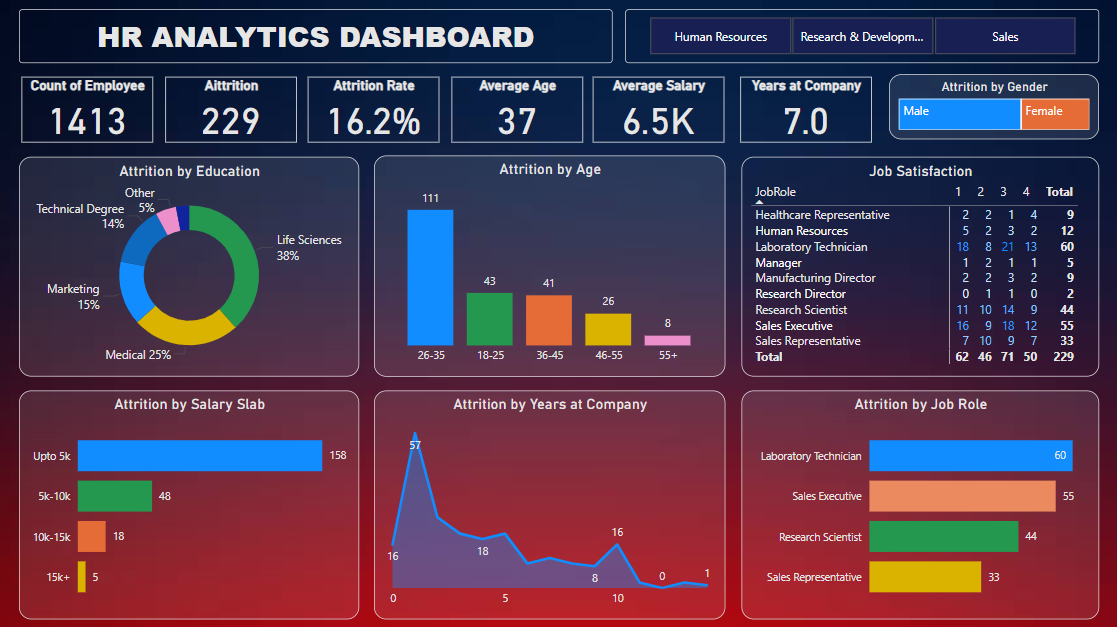

Layout of this report page (visuals, bound fields, positions):
{"tool":"powerbi","page":{"name":"Page 1","canvas":[1280,720],"ordinal":0},"visuals":[{"type":"card","title":"Count of Employee","fields":{"Values":["CountNonNull(HR_Analytics.EmpID)"]},"box":[25.2,89.4,150,75],"z":0},{"type":"card","title":"Aittrition","fields":{"Values":["Sum(HR_Analytics.AittritionCount)"]},"box":[189.6,89.4,150,75],"z":1000},{"type":"card","title":"Average Age","fields":{"Values":["Avg(HR_Analytics.Age)"]},"box":[517.5,89.4,150,75],"z":2000},{"type":"card","title":"Attrition Rate","fields":{"Values":["HR_Analytics.AttritionRate"]},"box":[353.1,89.4,150,75],"z":3000},{"type":"card","title":"Average Salary","fields":{"Values":["Avg(HR_Analytics.MonthlyIncome)"]},"box":[679.1,89.4,150,75],"z":4000},{"type":"card","title":"Years at Company","fields":{"Values":["Avg(HR_Analytics.YearsAtCompany)"]},"box":[847.4,89.4,150,75],"z":5000},{"type":"donutChart","title":"Attrition by Education","fields":{"Category":["HR_Analytics.EducationField"],"Y":["Sum(HR_Analytics.AittritionCount)"]},"box":[22.3,181.4,388.6,251.4],"z":6000},{"type":"columnChart","title":"Attrition by Age","fields":{"Category":["HR_Analytics.AgeGroup"],"Y":["Sum(HR_Analytics.AittritionCount)"]},"box":[428,180,401.4,252.9],"z":7000},{"type":"pivotTable","title":"Job Satisfaction","fields":{"Rows":["HR_Analytics.JobRole"],"Columns":["HR_Analytics.JobSatisfaction"],"Values":["Sum(HR_Analytics.AittritionCount)"]},"box":[848,181.4,408.6,251.4],"z":8000},{"type":"barChart","title":"Attrition by Salary Slab","fields":{"Category":["HR_Analytics.SalarySlab"],"Y":["Sum(HR_Analytics.AittritionCount)"]},"box":[22.3,448.6,388.6,261.4],"z":9000},{"type":"barChart","title":"Attrition by Job Role","fields":{"Y":["Sum(HR_Analytics.AittritionCount)"],"Category":["HR_Analytics.JobRole"]},"box":[848,448.6,408.6,261.4],"z":10000},{"type":"areaChart","title":"Attrition by Years at Company","fields":{"Category":["HR_Analytics.YearsAtCompany"],"Y":["Sum(HR_Analytics.AittritionCount)"]},"box":[428,448.6,401.4,261.4],"z":11000},{"type":"treemap","title":"Attrition by Gender","fields":{"Group":["HR_Analytics.Gender"],"Values":["Sum(HR_Analytics.AittritionCount)"]},"box":[1017.1,86.9,240,74.3],"z":12000},{"type":"slicer","fields":{"Values":["HR_Analytics.Department"]},"box":[715.7,13.1,541.4,61.4],"z":13000},{"type":"textbox","box":[22.9,12.9,678.6,61.4],"z":14000}]}

Visuals, with their boxes in screenshot pixels (x1, y1, x2, y2), scaled from the page's 1280x720 canvas onto the 1117x627 screenshot:
"Count of Employee" card: bbox=[22, 78, 153, 143]
"Aittrition" card: bbox=[165, 78, 296, 143]
"Average Age" card: bbox=[452, 78, 582, 143]
"Attrition Rate" card: bbox=[308, 78, 439, 143]
"Average Salary" card: bbox=[593, 78, 724, 143]
"Years at Company" card: bbox=[739, 78, 870, 143]
"Attrition by Education" donutChart: bbox=[19, 158, 359, 377]
"Attrition by Age" columnChart: bbox=[373, 157, 724, 377]
"Job Satisfaction" pivotTable: bbox=[740, 158, 1097, 377]
"Attrition by Salary Slab" barChart: bbox=[19, 391, 359, 618]
"Attrition by Job Role" barChart: bbox=[740, 391, 1097, 618]
"Attrition by Years at Company" areaChart: bbox=[373, 391, 724, 618]
"Attrition by Gender" treemap: bbox=[888, 76, 1097, 140]
slicer - HR_Analytics.Department: bbox=[625, 11, 1097, 65]
textbox: bbox=[20, 11, 612, 65]
